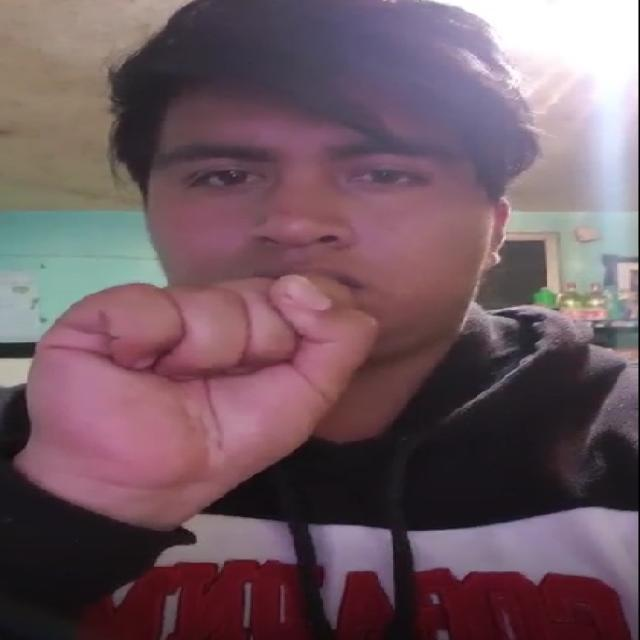S: (16, 273, 408, 508)
